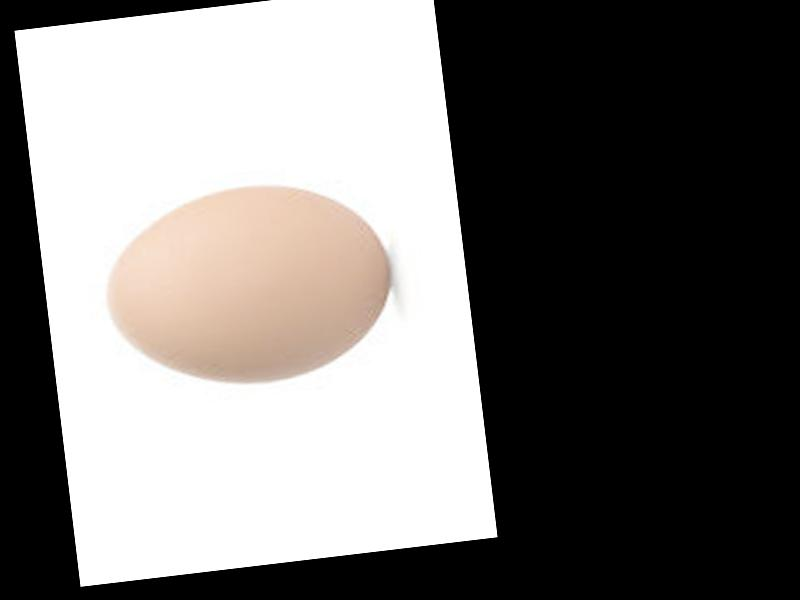Eggs: (99, 173, 403, 398)
